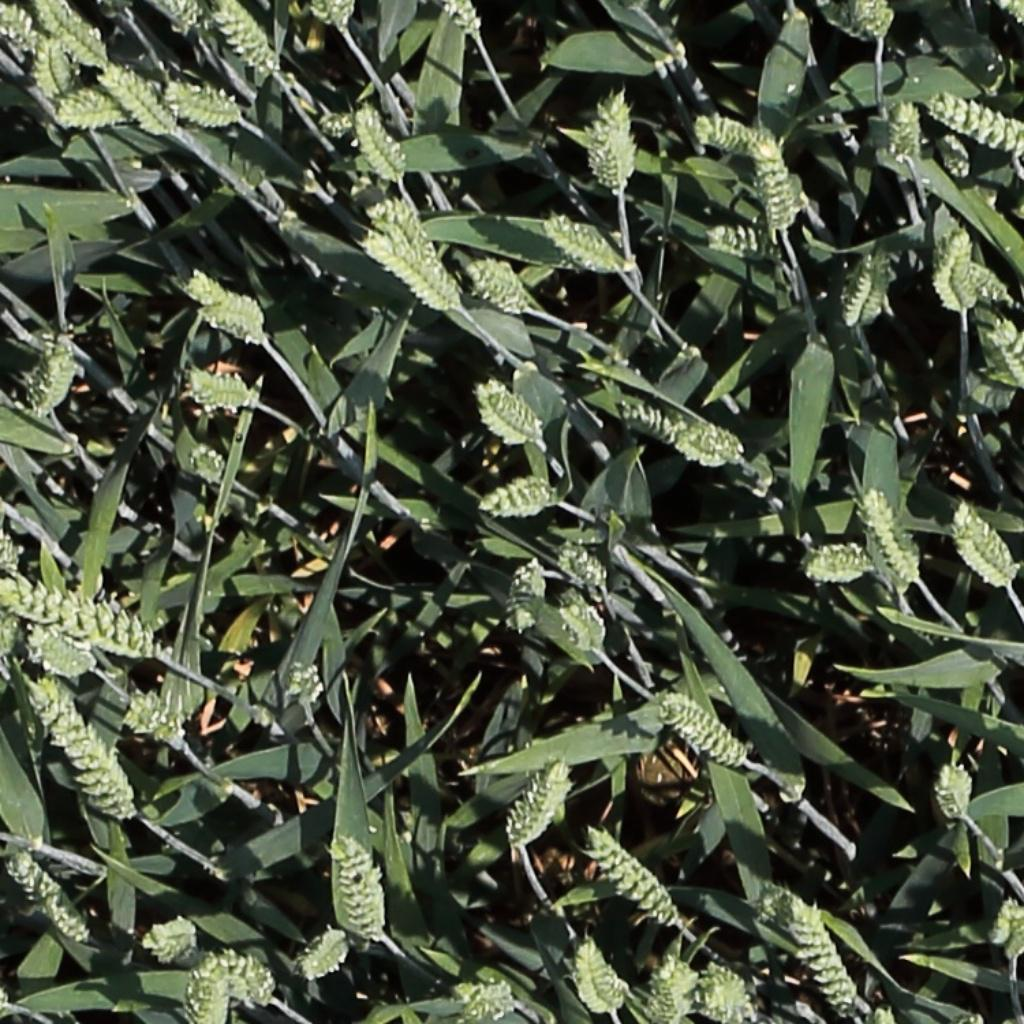0-0: (27, 674, 133, 819), (0, 576, 172, 652), (779, 883, 864, 1017), (584, 826, 682, 928), (6, 850, 90, 936), (364, 233, 456, 309), (623, 404, 740, 461), (507, 757, 572, 851), (864, 486, 924, 587), (593, 84, 647, 195), (99, 62, 178, 135), (664, 697, 748, 765), (931, 91, 1024, 148), (497, 539, 549, 640), (212, 2, 283, 75), (341, 834, 389, 940), (953, 505, 1017, 581), (356, 100, 411, 187), (38, 1, 109, 65), (756, 132, 802, 230), (187, 271, 266, 327), (546, 215, 623, 270), (577, 933, 626, 1018), (933, 222, 978, 312), (199, 950, 274, 1003), (335, 836, 372, 943), (477, 383, 544, 442), (804, 531, 877, 585), (27, 326, 70, 417), (479, 468, 563, 513), (845, 245, 887, 331), (559, 585, 608, 655), (124, 694, 185, 749), (697, 965, 756, 1019), (189, 371, 263, 414), (40, 627, 107, 674), (468, 260, 532, 309), (270, 653, 327, 708), (179, 953, 226, 1017), (646, 953, 688, 1023), (559, 539, 613, 592), (961, 260, 1018, 307), (165, 83, 243, 117), (300, 927, 350, 980), (699, 117, 775, 151), (888, 91, 922, 166), (935, 122, 976, 184), (143, 904, 198, 950), (56, 96, 124, 133), (989, 316, 1022, 390), (709, 225, 782, 258), (38, 30, 70, 105), (0, 1, 42, 55), (939, 759, 970, 831), (823, 2, 877, 42), (456, 984, 514, 1021), (987, 895, 1021, 954), (188, 439, 229, 487), (305, 0, 362, 34), (446, 0, 486, 42), (0, 499, 20, 580), (0, 615, 22, 688), (864, 0, 895, 42), (166, 0, 203, 34)
